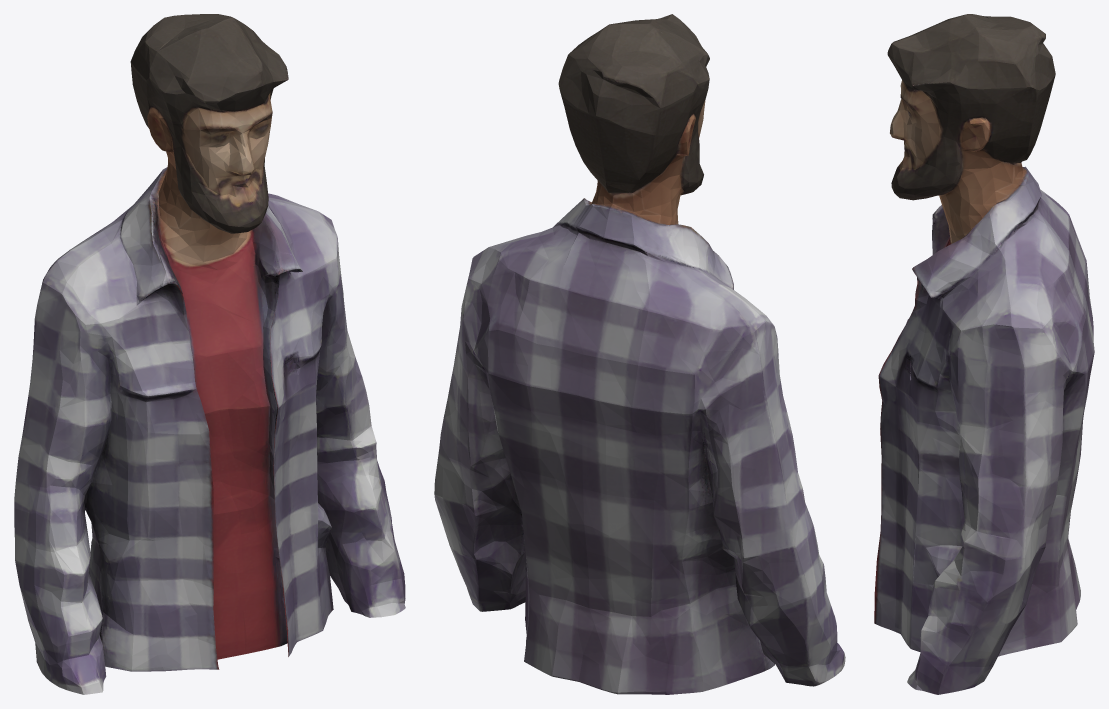
The model's file is _render.glb.
3 renders of one model, left to right at view 1: azimuth 30°, elevation 25°; view 2: azimuth 150°, elevation 25°; view 3: azimuth 270°, elevation 25°, orthographic. The views are drawn at different scales.
Visible parts, largest first — view 1: geometry_0; view 2: geometry_0; view 3: geometry_0.
Boxes of the visible parts, left/top/right/bottom form: geometry_0: left=14, top=14, right=405, bottom=694; geometry_0: left=434, top=14, right=845, bottom=694; geometry_0: left=874, top=14, right=1094, bottom=694.
Bounding box in the file's own units: 0.5218 × 0.8284 × 0.2796.
1 material, 1 textured.
